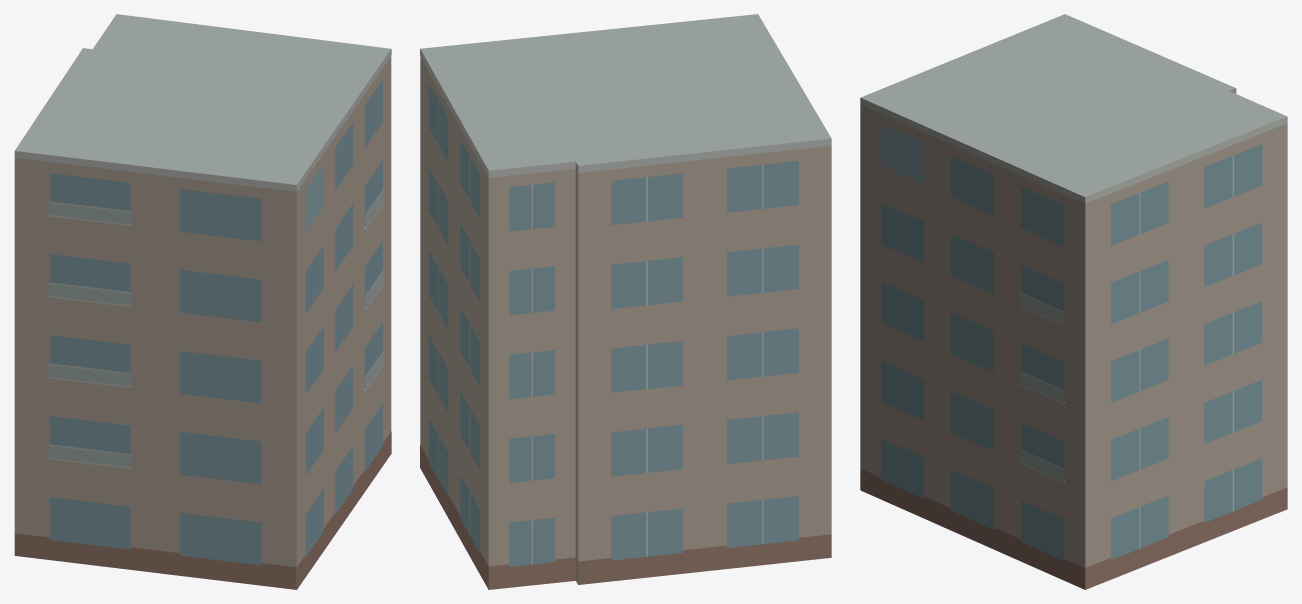
The model's file is survey-upis-32967469.glb.
3 renders of one model, left to right at view 1: azimuth 30°, elevation 25°; view 2: azimuth 150°, elevation 25°; view 3: azimuth 270°, elevation 25°, orthographic. The views are drawn at different scales.
Visible parts, largest first — view 1: survey-upis-32967469.tmp; view 2: survey-upis-32967469.tmp; view 3: survey-upis-32967469.tmp.
Part boxes in pixels (x1,y1,x2,y2): survey-upis-32967469.tmp: (14, 14, 391, 589); survey-upis-32967469.tmp: (420, 14, 831, 589); survey-upis-32967469.tmp: (860, 14, 1287, 589).
Size of the model in its own units: 14.32 by 14.3 by 14.11.
